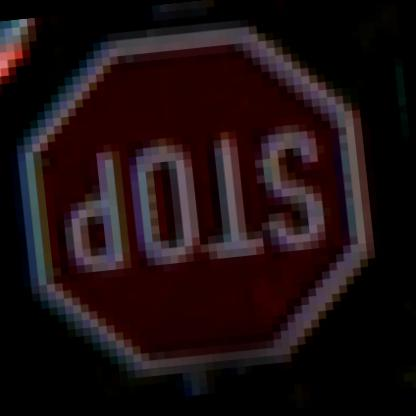stop: (0, 0, 402, 394)
